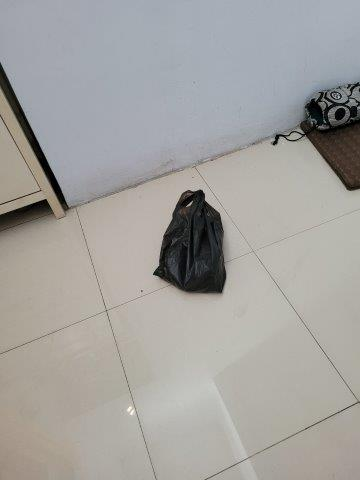plastik: (149, 189, 231, 301)
